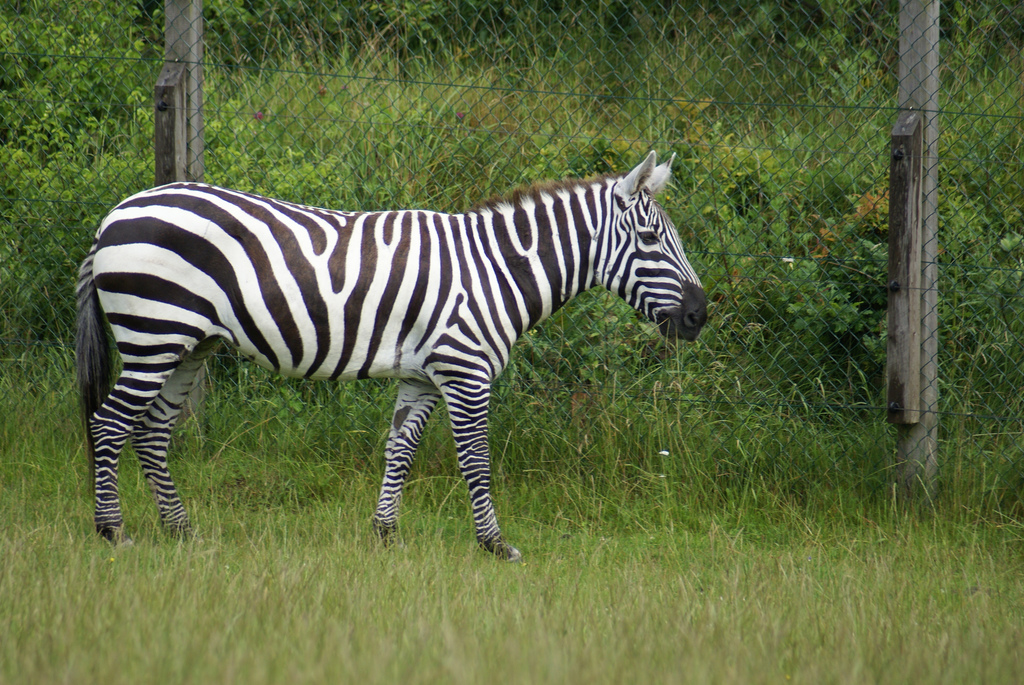zebra: (68, 152, 712, 556)
